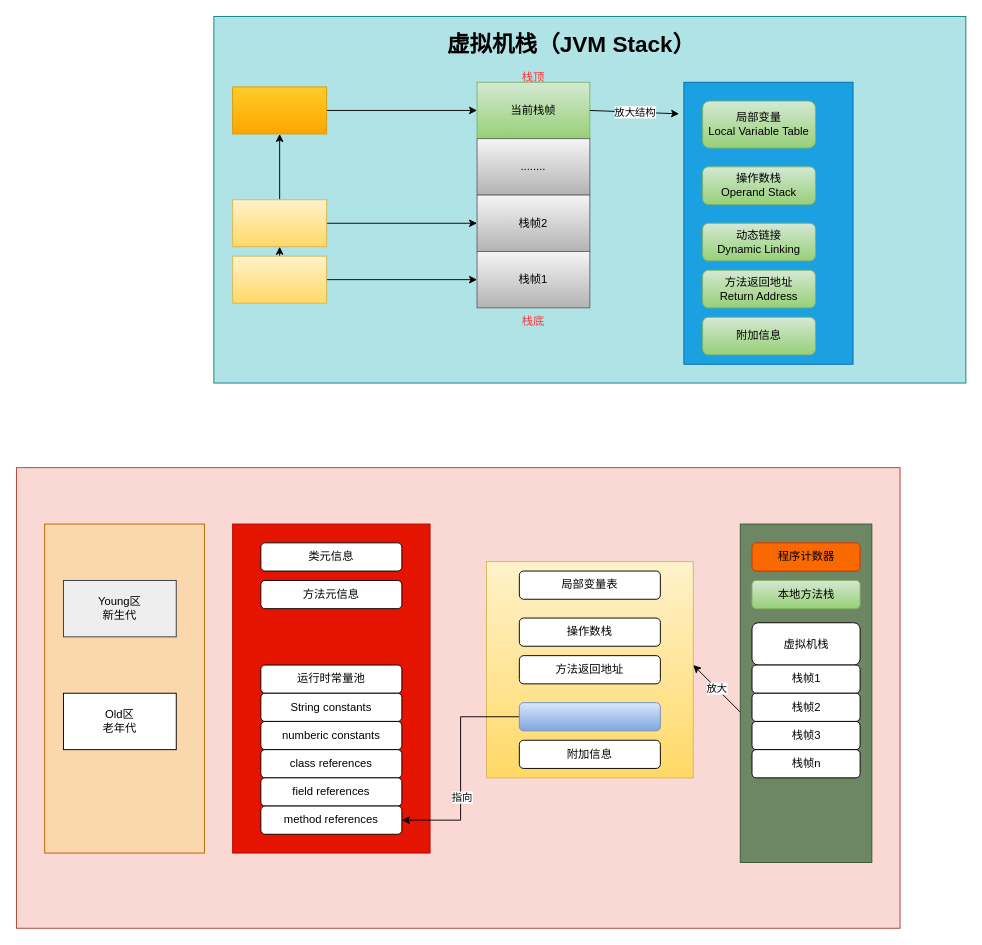
This 982x945 diagram has some shape labels left out. Each missing label, with the box of its shape:
动态链接: (518, 702, 660, 731)
当前方法: (232, 86, 327, 134)
方法1: (232, 255, 327, 303)
方法2: (232, 199, 327, 247)
